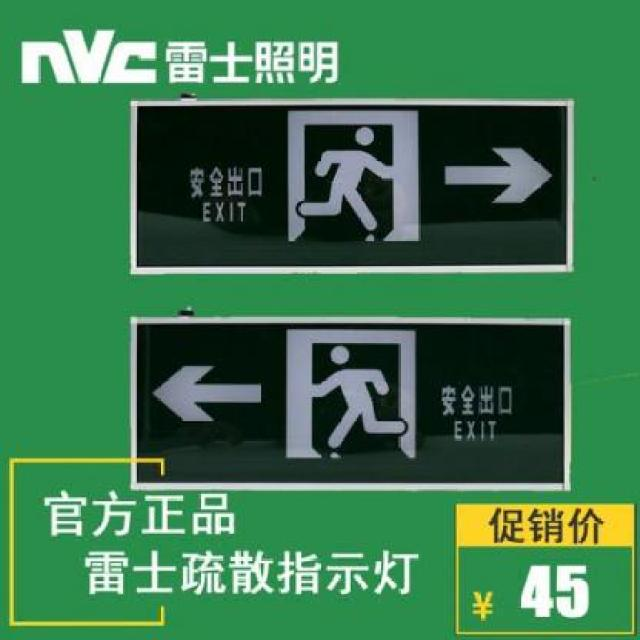exit_sign: (128, 323, 572, 496), (128, 102, 580, 270)
